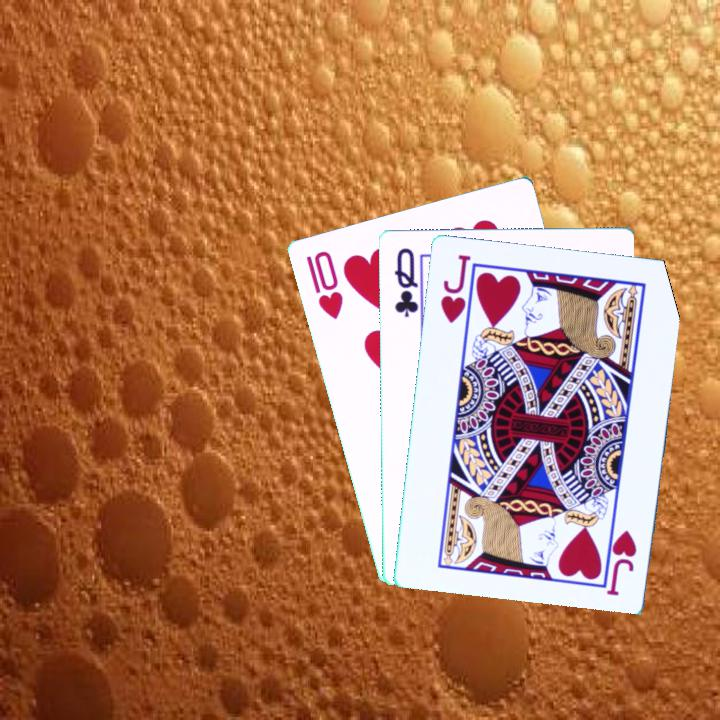10h: (302, 247, 346, 322)
Jh: (436, 250, 474, 326), (603, 526, 639, 598)
Qc: (390, 244, 423, 323)
